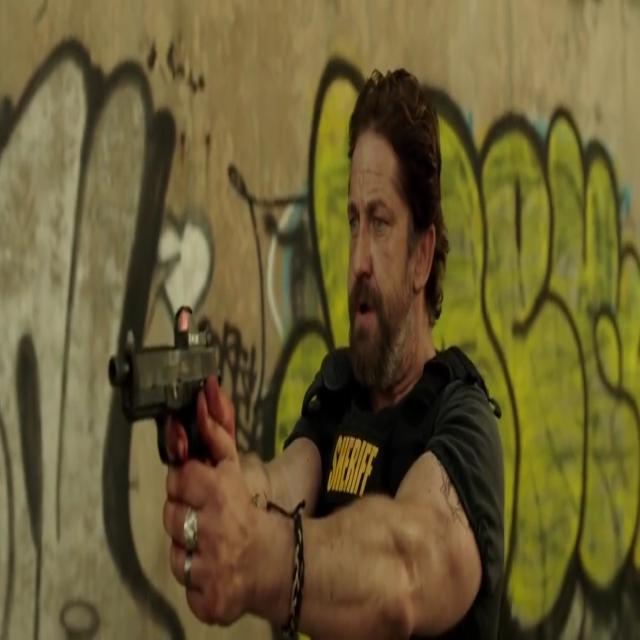Weapon: (99, 299, 252, 496)
